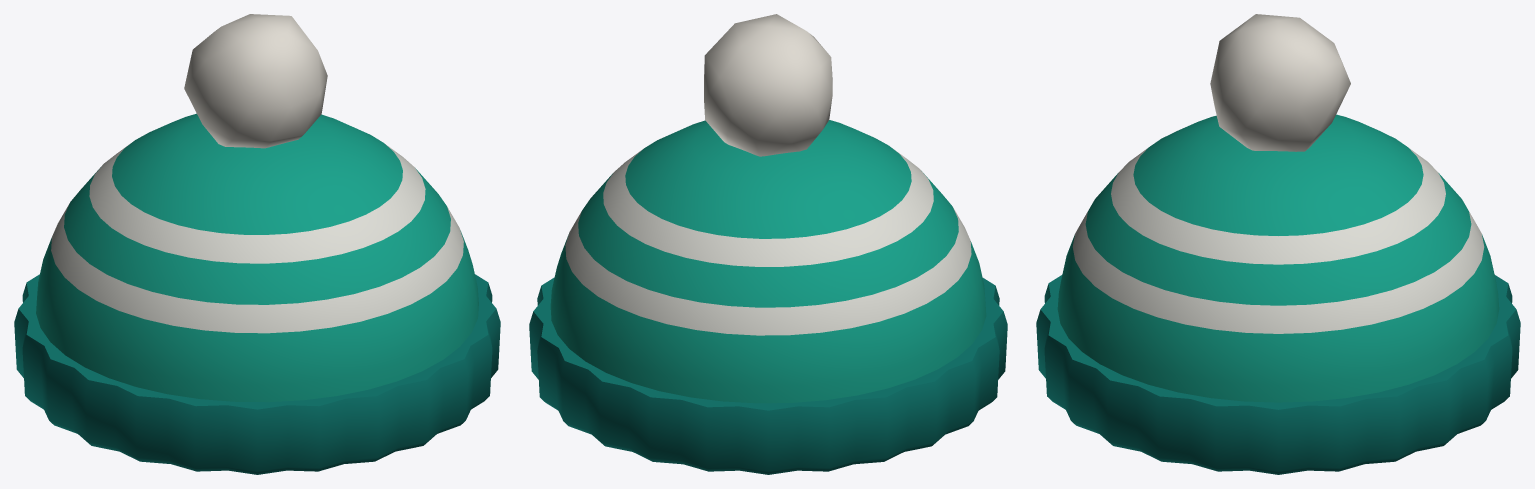
File: hat_beanie.glb
3 renders of one model, left to right at view 1: azimuth 30°, elevation 25°; view 2: azimuth 150°, elevation 25°; view 3: azimuth 270°, elevation 25°, orthographic.
Parts seen in each view (by area): view 1: hat_beanie; view 2: hat_beanie; view 3: hat_beanie.
Boxes of the visible parts, box(x1,y1,x2,y2) form: hat_beanie: box(14, 14, 500, 474); hat_beanie: box(529, 14, 1007, 474); hat_beanie: box(1036, 14, 1520, 474).
Size of the model in its own units: 0.578 by 0.4677 by 0.578.
